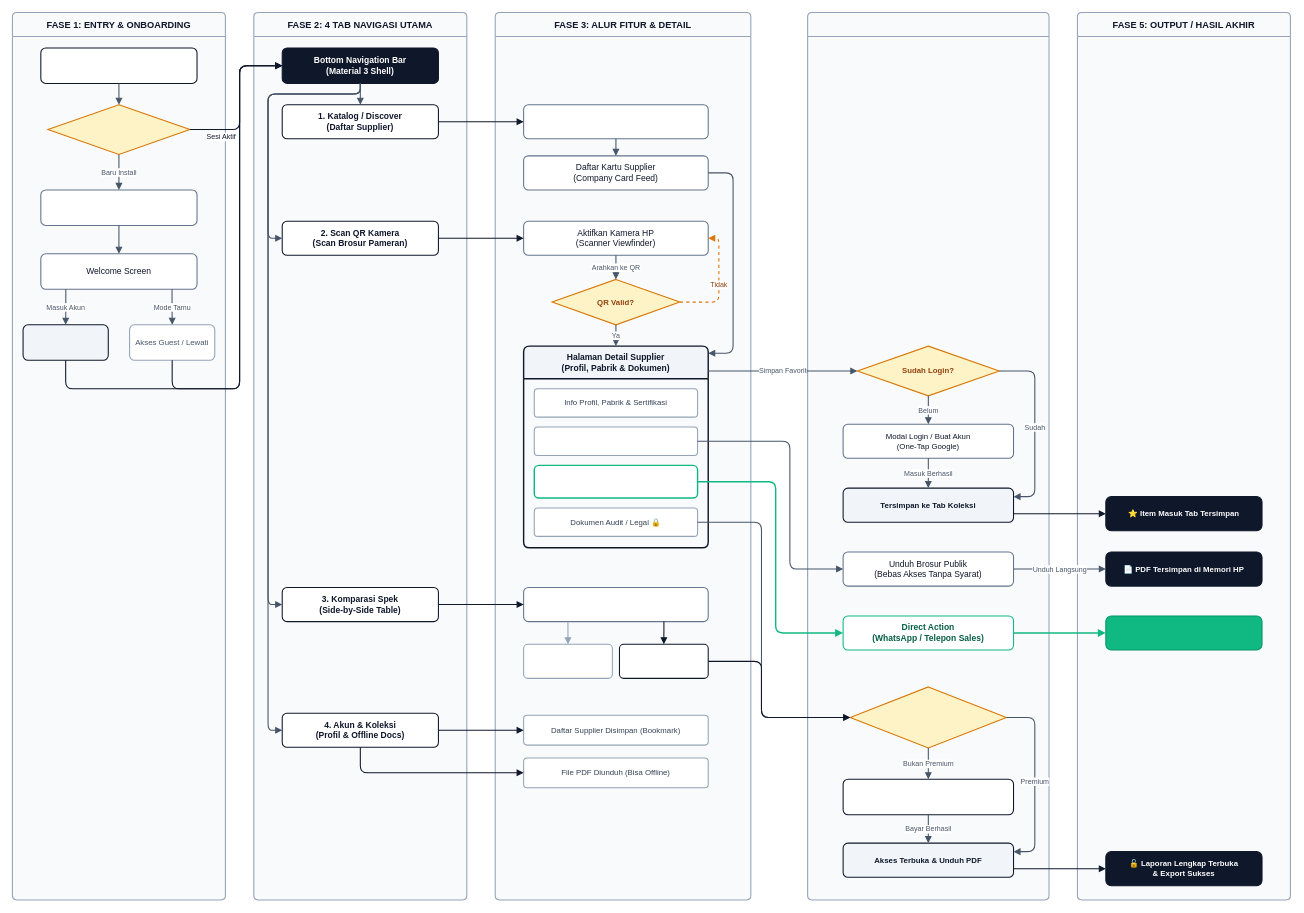
This 1304x913 diagram has some shape labels left out. Here are the shapes that lost their labels. From the top down, the box of each, then its label:
(40, 47, 197, 84): Splash Screen Logo
(47, 104, 190, 155): Pemeriksaan Sesi Aktif?
(523, 104, 708, 139): Pencarian & Filter Kategori (Spices, Coconut, Halal)
(40, 189, 197, 226): 3 Slide Onboarding (Pengenalan Fitur Saku)
(22, 324, 108, 361): Login Google / Email
(533, 426, 698, 456): Brosur Digital (Publik)
(807, 12, 1049, 900): FASE 4: DECISION GATE (HAK AKSES)
(533, 464, 698, 498): Sticky Bottom Bar [Chat WhatsApp | Kunjungi Web]
(523, 587, 708, 622): Tabel Komparasi 2 Kolom (Bandingkan 2 Pabrik)
(1105, 615, 1262, 650): 💬 Aplikasi WhatsApp Terbuka
(523, 643, 613, 679): Tambah / Ganti Supplier
(619, 643, 708, 679): Tombol: Unduh PDF
(849, 686, 1007, 748): Status Membership?
(842, 778, 1014, 815): Layar Upgrade Membership (Google Play Billing)
